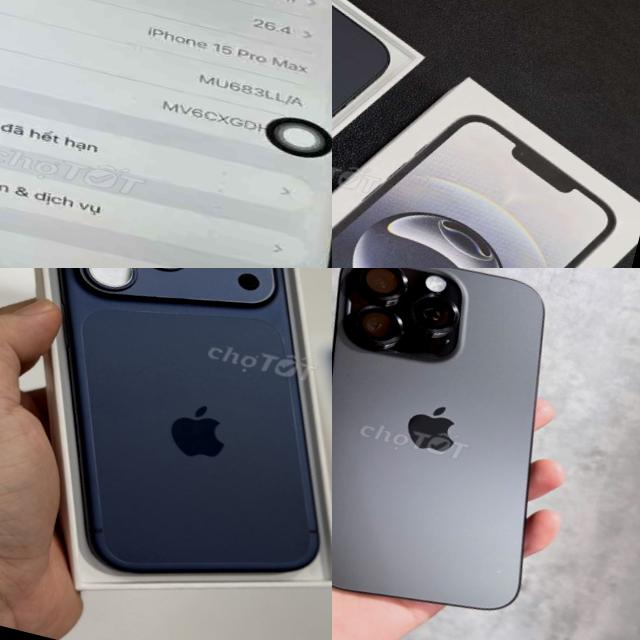gen_15: (0, 0, 332, 268)
gen_16: (332, 268, 608, 640)
gen_17: (0, 268, 332, 625)
